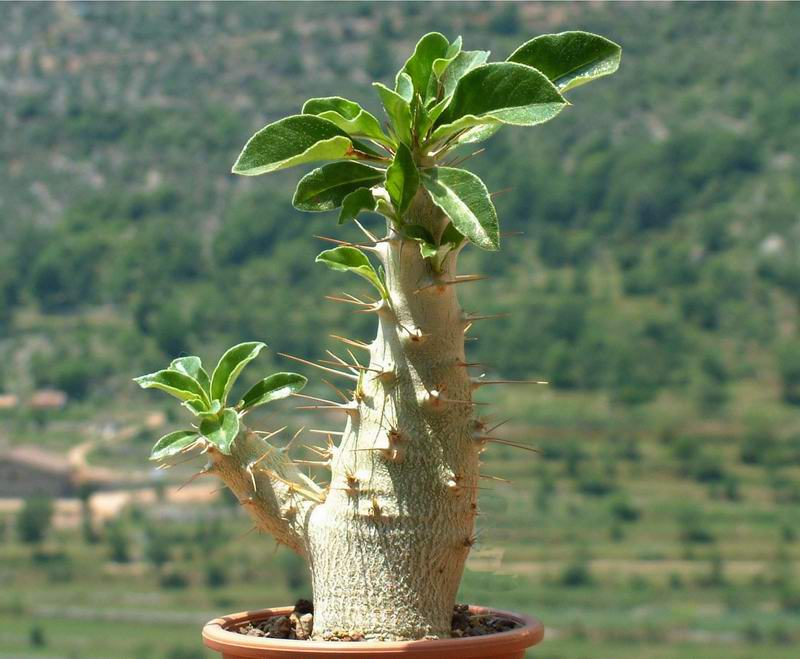Pachypodium saundersii: (104, 43, 649, 643)
